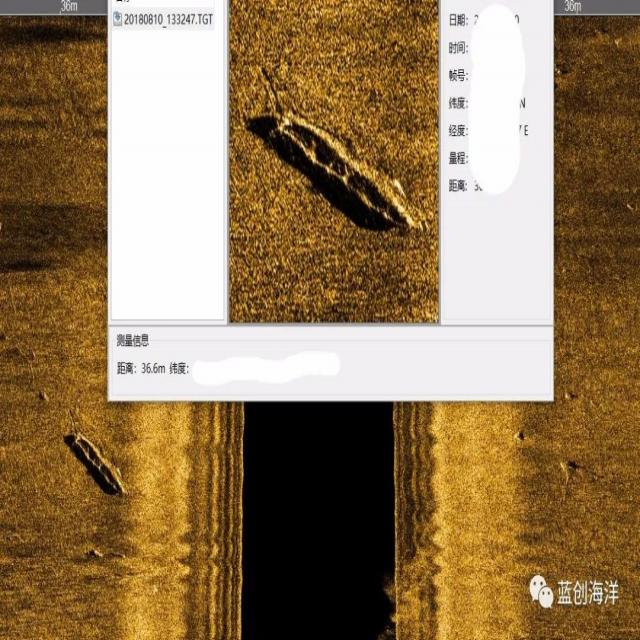ship: (266, 104, 424, 240), (71, 428, 130, 502)
